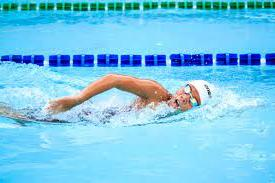Swimming: (19, 52, 242, 134)
